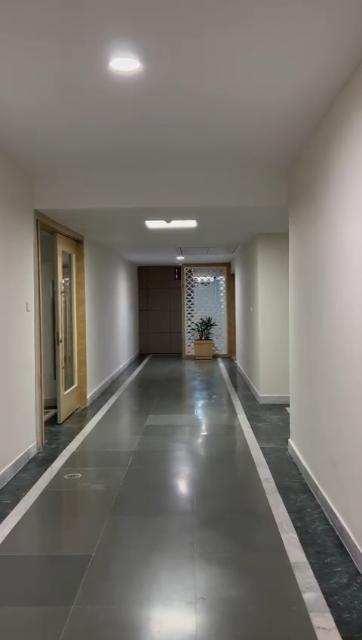door: (34, 222, 90, 418)
floor: (0, 353, 362, 640)
object: (188, 305, 220, 371)
wall: (289, 65, 362, 544), (0, 153, 34, 461), (242, 252, 292, 394), (95, 251, 140, 365)
